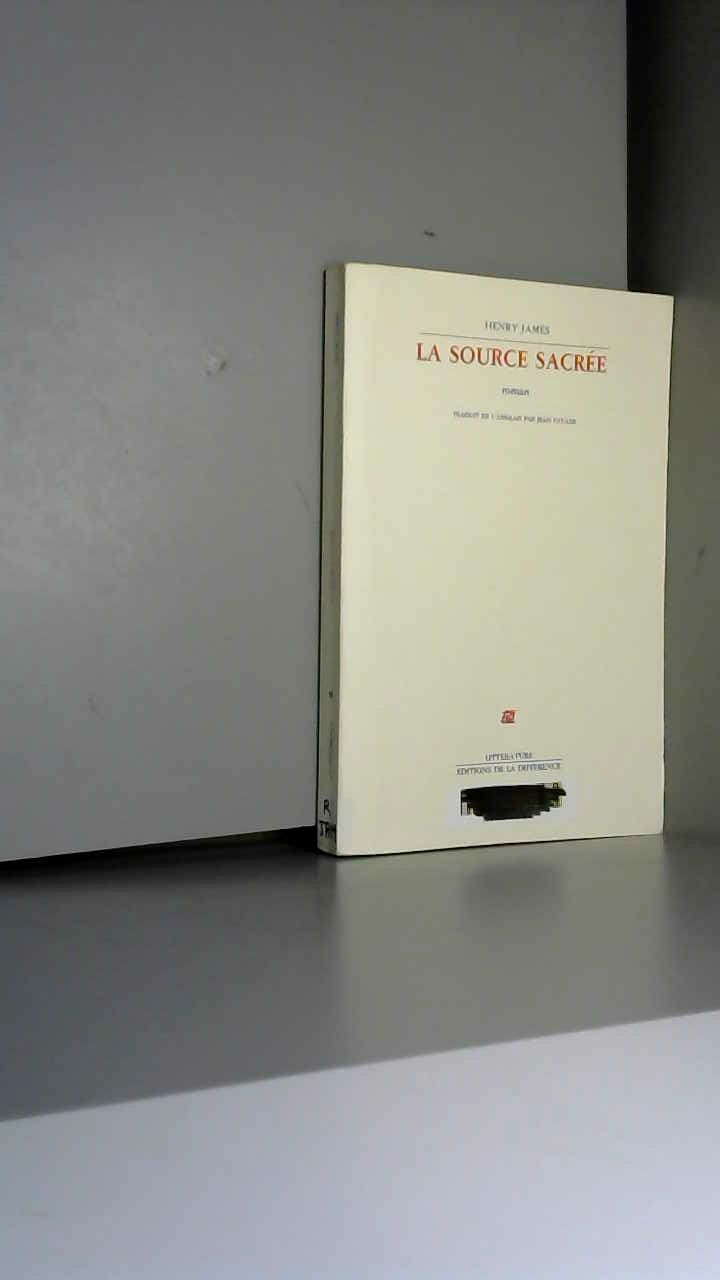book: (290, 240, 720, 943)
